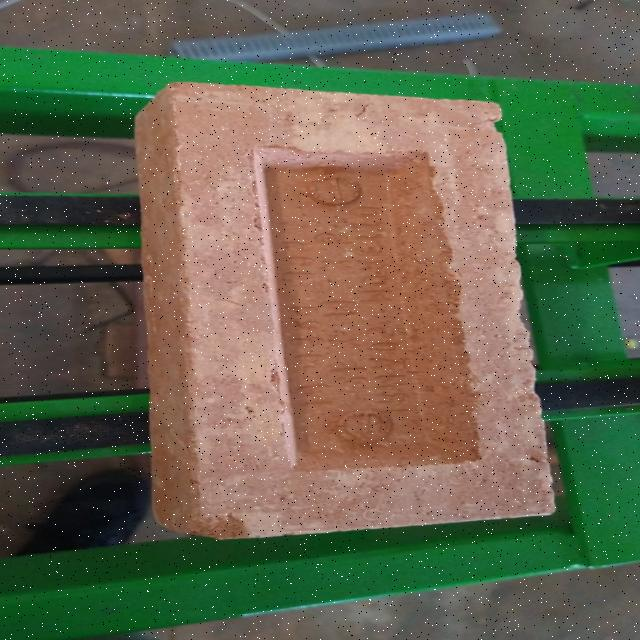bricks: (133, 79, 557, 537)
